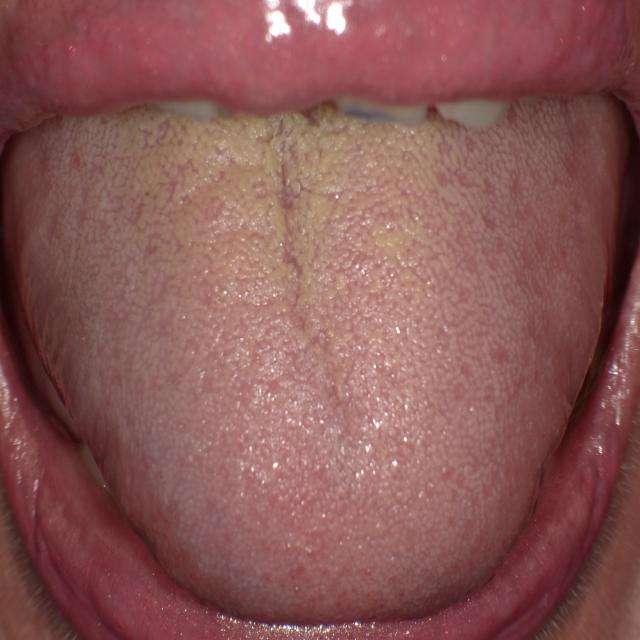huangtaishe: (4, 93, 640, 625)
liewenshe: (257, 118, 304, 304)
